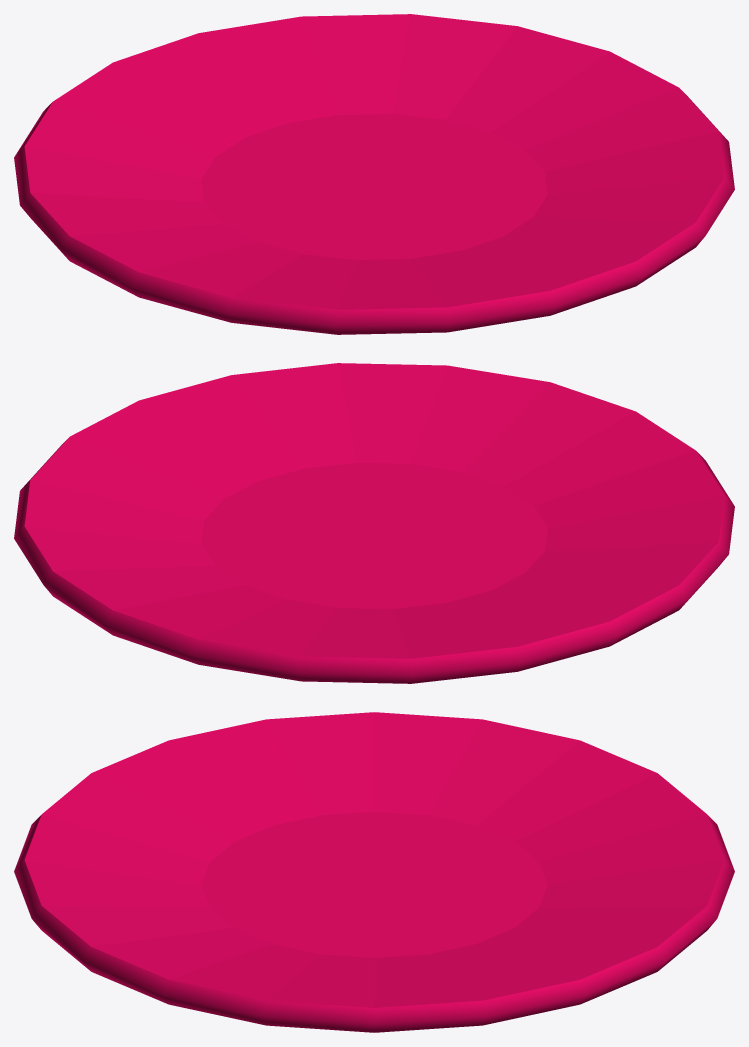
File: Cup_Saucer_01_Lod0.fbx
3 views of the same model, one above another, from view 1: azimuth 30°, elevation 25°; view 2: azimuth 150°, elevation 25°; view 3: azimuth 270°, elevation 25° (orthographic).
Parts seen in each view (by area): view 1: Cup_Saucer_01_Lod0; view 2: Cup_Saucer_01_Lod0; view 3: Cup_Saucer_01_Lod0.
Part boxes in pixels (box(x1,y1,x2,y2)): Cup_Saucer_01_Lod0: box(14, 14, 734, 334); Cup_Saucer_01_Lod0: box(14, 363, 734, 683); Cup_Saucer_01_Lod0: box(14, 712, 734, 1032).
Size of the model in its own units: 18.25 by 2.43 by 18.25.
